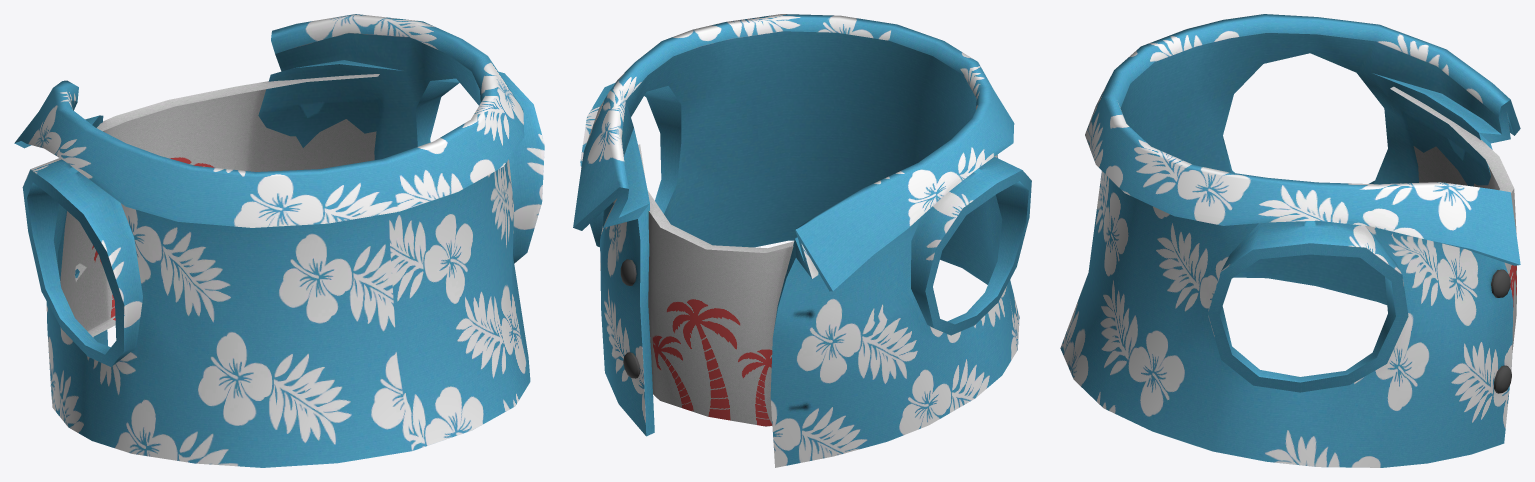
The model's file is IG_Armor_Island_Blue.fbx.
3 views of the same model, side by side, from view 1: azimuth 30°, elevation 25°; view 2: azimuth 150°, elevation 25°; view 3: azimuth 270°, elevation 25° (orthographic). The views are drawn at different scales.
Visible parts, largest first — view 1: Clothes_Armor_Island_Blue; view 2: Clothes_Armor_Island_Blue; view 3: Clothes_Armor_Island_Blue.
Boxes of the visible parts, <box> form: Clothes_Armor_Island_Blue: <box>14,14,544,467</box>; Clothes_Armor_Island_Blue: <box>573,14,1031,467</box>; Clothes_Armor_Island_Blue: <box>1060,14,1520,467</box>.
Size of the model in its own units: 0.6389 by 0.4527 by 0.604.
